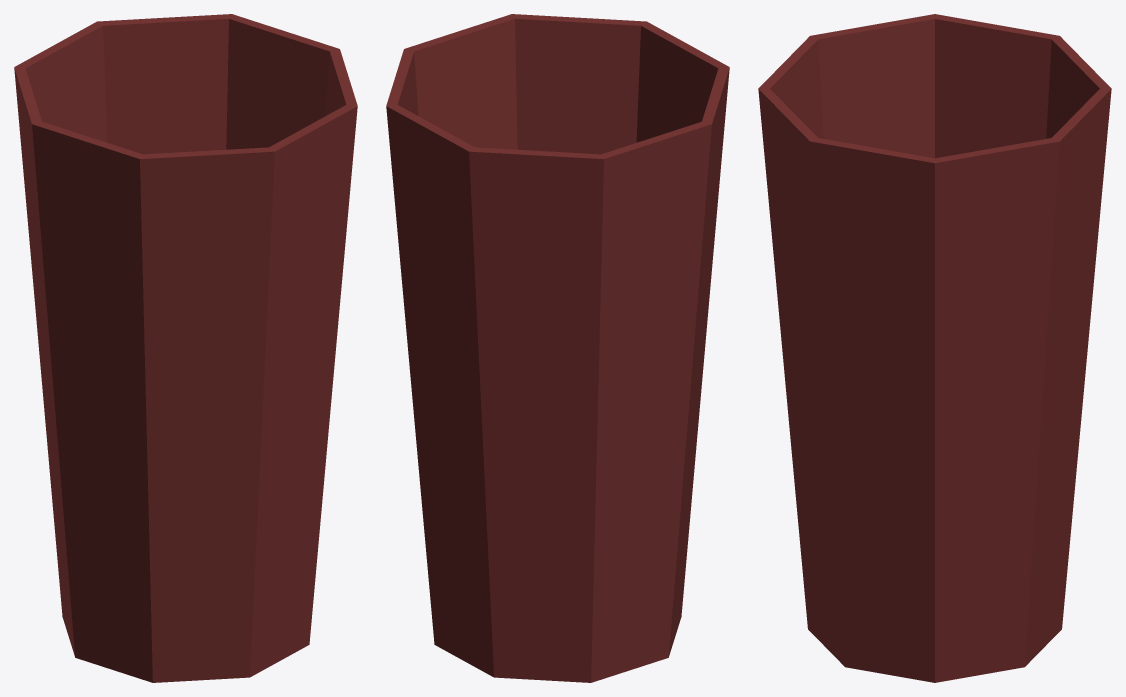
File: PlasticCup1.glb
3 views of the same model, side by side, from view 1: azimuth 30°, elevation 25°; view 2: azimuth 150°, elevation 25°; view 3: azimuth 270°, elevation 25° (orthographic).
Visible parts, largest first — view 1: PlasticCup1; view 2: PlasticCup1; view 3: PlasticCup1.
Boxes of the visible parts, box(x1,y1,x2,y2) form: PlasticCup1: box(14, 14, 357, 682); PlasticCup1: box(386, 14, 729, 682); PlasticCup1: box(758, 14, 1111, 682).
Bounding box in the file's own units: 0.1436 × 0.2425 × 0.1436.
